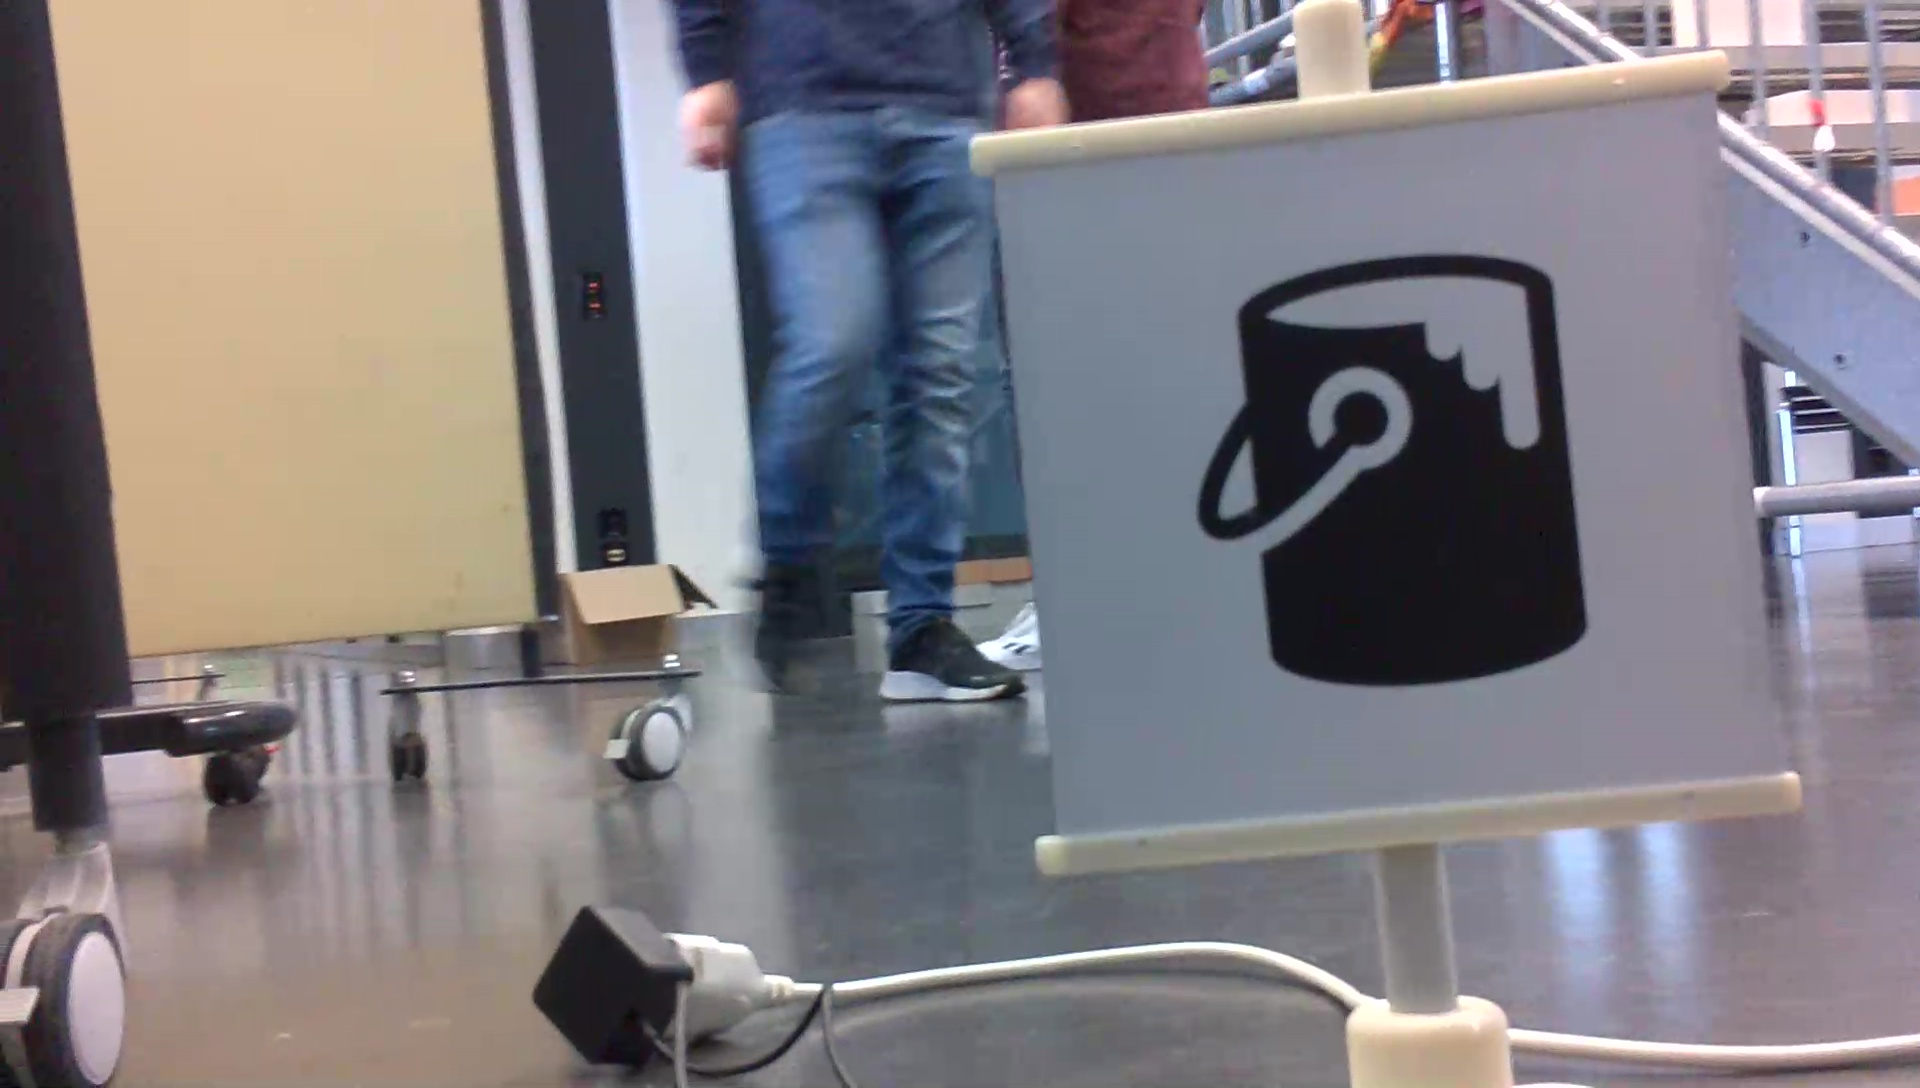bucket: (1188, 245, 1597, 702)
